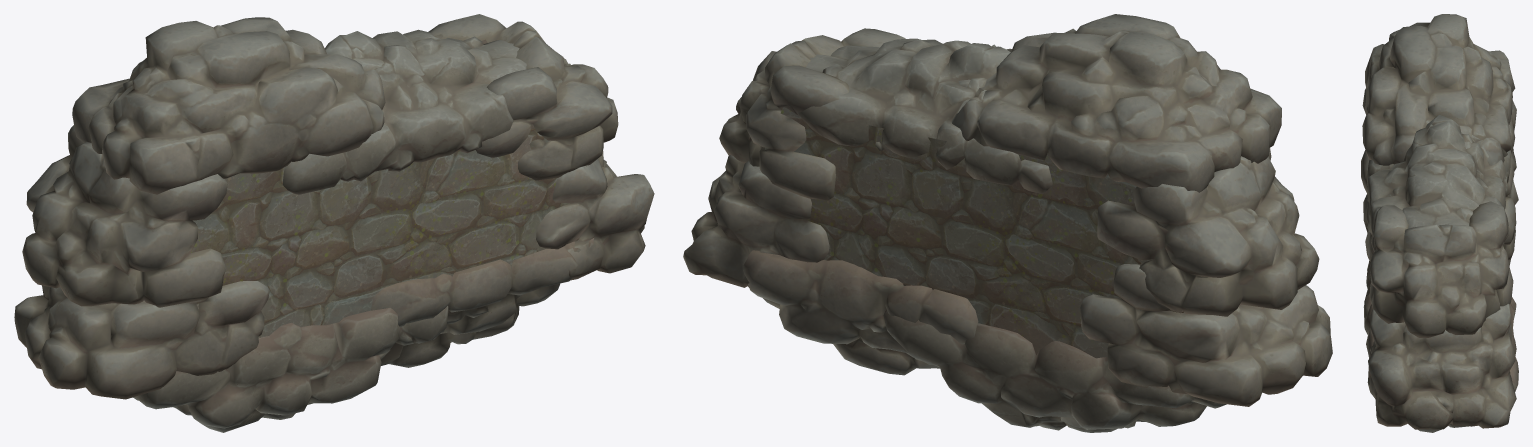
Rendered from MSH_fwOF_Ruins_Wall_Low_Broken_01.fbx.
3 views of the same model, side by side, from view 1: azimuth 30°, elevation 25°; view 2: azimuth 150°, elevation 25°; view 3: azimuth 270°, elevation 25° (orthographic). The views are drawn at different scales.
Visible parts, largest first — view 1: MSH_fwOF_Ruins_Wall_Low_Broken_01_LOD0, MSH_fwOF_Ruins_Wall_Low_Broken_01_Base; view 2: MSH_fwOF_Ruins_Wall_Low_Broken_01_LOD0, MSH_fwOF_Ruins_Wall_Low_Broken_01_Base; view 3: MSH_fwOF_Ruins_Wall_Low_Broken_01_LOD0.
Part boxes in pixels (x1=…): MSH_fwOF_Ruins_Wall_Low_Broken_01_LOD0: x1=14, y1=14, x2=654, y2=432; MSH_fwOF_Ruins_Wall_Low_Broken_01_Base: x1=191, y1=124, x2=586, y2=337; MSH_fwOF_Ruins_Wall_Low_Broken_01_LOD0: x1=683, y1=14, x2=1332, y2=432; MSH_fwOF_Ruins_Wall_Low_Broken_01_Base: x1=765, y1=107, x2=1183, y2=358; MSH_fwOF_Ruins_Wall_Low_Broken_01_LOD0: x1=1361, y1=14, x2=1518, y2=432.
Size of what is drawn, in the model's own units: 4.27 by 2.76 by 1.23.
